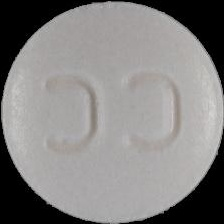65862-621: (0, 0, 224, 224)
